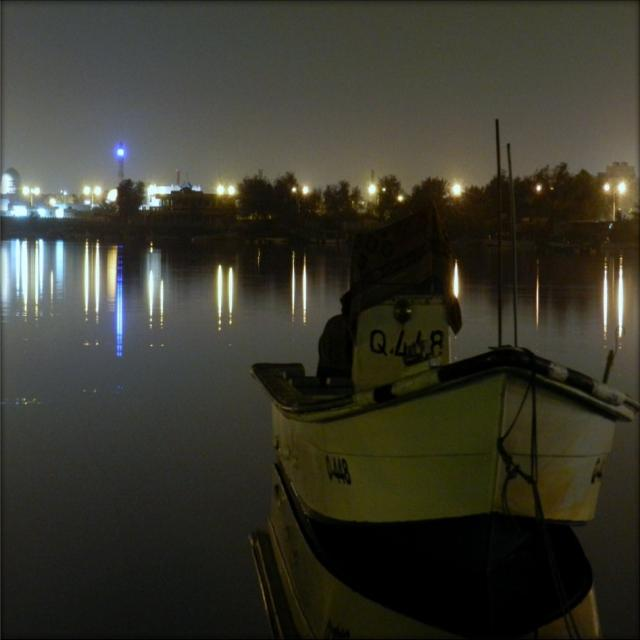Boat: (232, 237, 640, 562)
